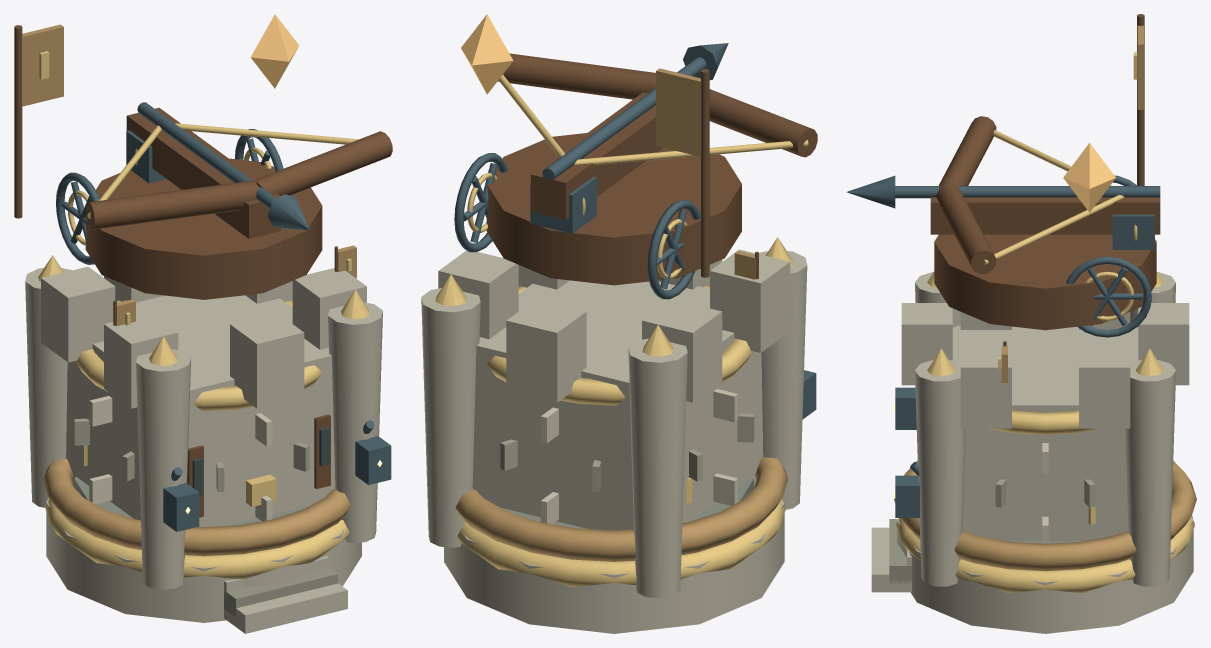
The model's file is tower-ballista-3-0.glb.
The picture shows the model from 3 angles, left to right: view 1: azimuth 30°, elevation 25°; view 2: azimuth 150°, elevation 25°; view 3: azimuth 270°, elevation 25°; orthographic projection. The views are drawn at different scales.
Visible parts, largest first — view 1: Foundation, Turret, ballista-L3-0; view 2: Foundation, Turret, ballista-L3-0; view 3: Foundation, Turret, ballista-L3-0.
Boxes of the visible parts, x1,y1,x2,y2 form: Foundation: [14, 24, 391, 633]; Turret: [56, 14, 392, 299]; ballista-L3-0: [46, 476, 361, 622]; Foundation: [421, 68, 816, 598]; Turret: [454, 14, 817, 299]; ballista-L3-0: [444, 476, 784, 633]; Foundation: [871, 14, 1196, 593]; Turret: [846, 116, 1160, 337]; ballista-L3-0: [897, 516, 1193, 633].
Size of the model in its own units: 1.83 by 3.09 by 1.99.
